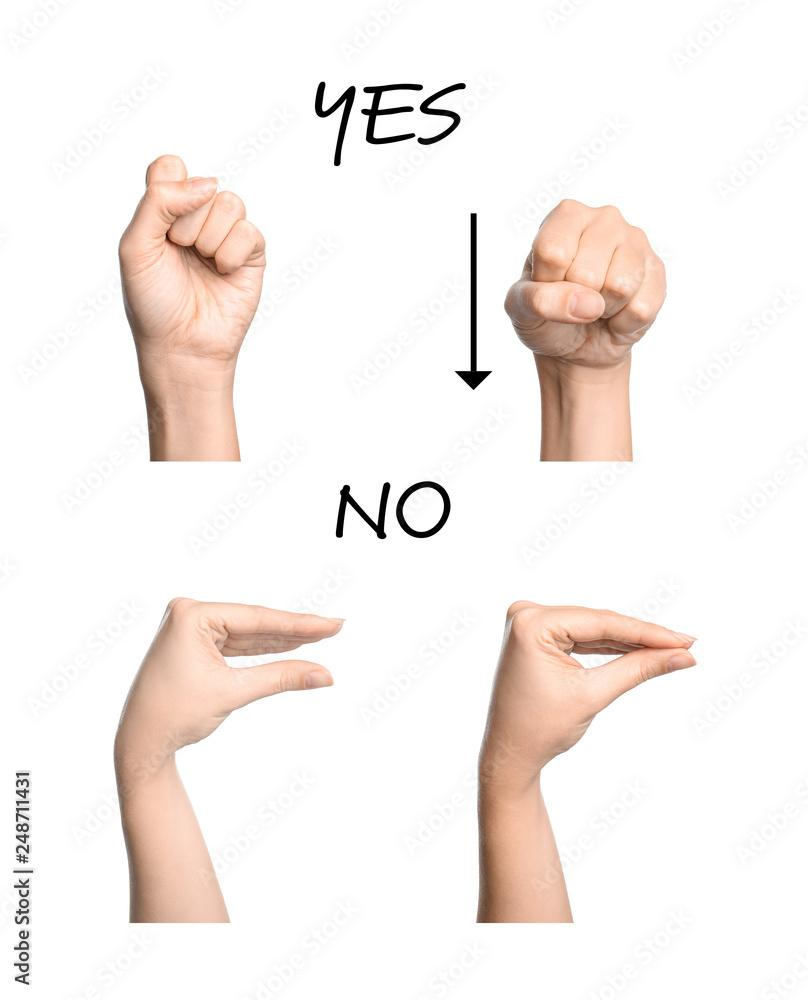No: (82, 568, 359, 783), (450, 578, 717, 759)
Yes: (106, 138, 285, 361), (488, 178, 679, 385)
